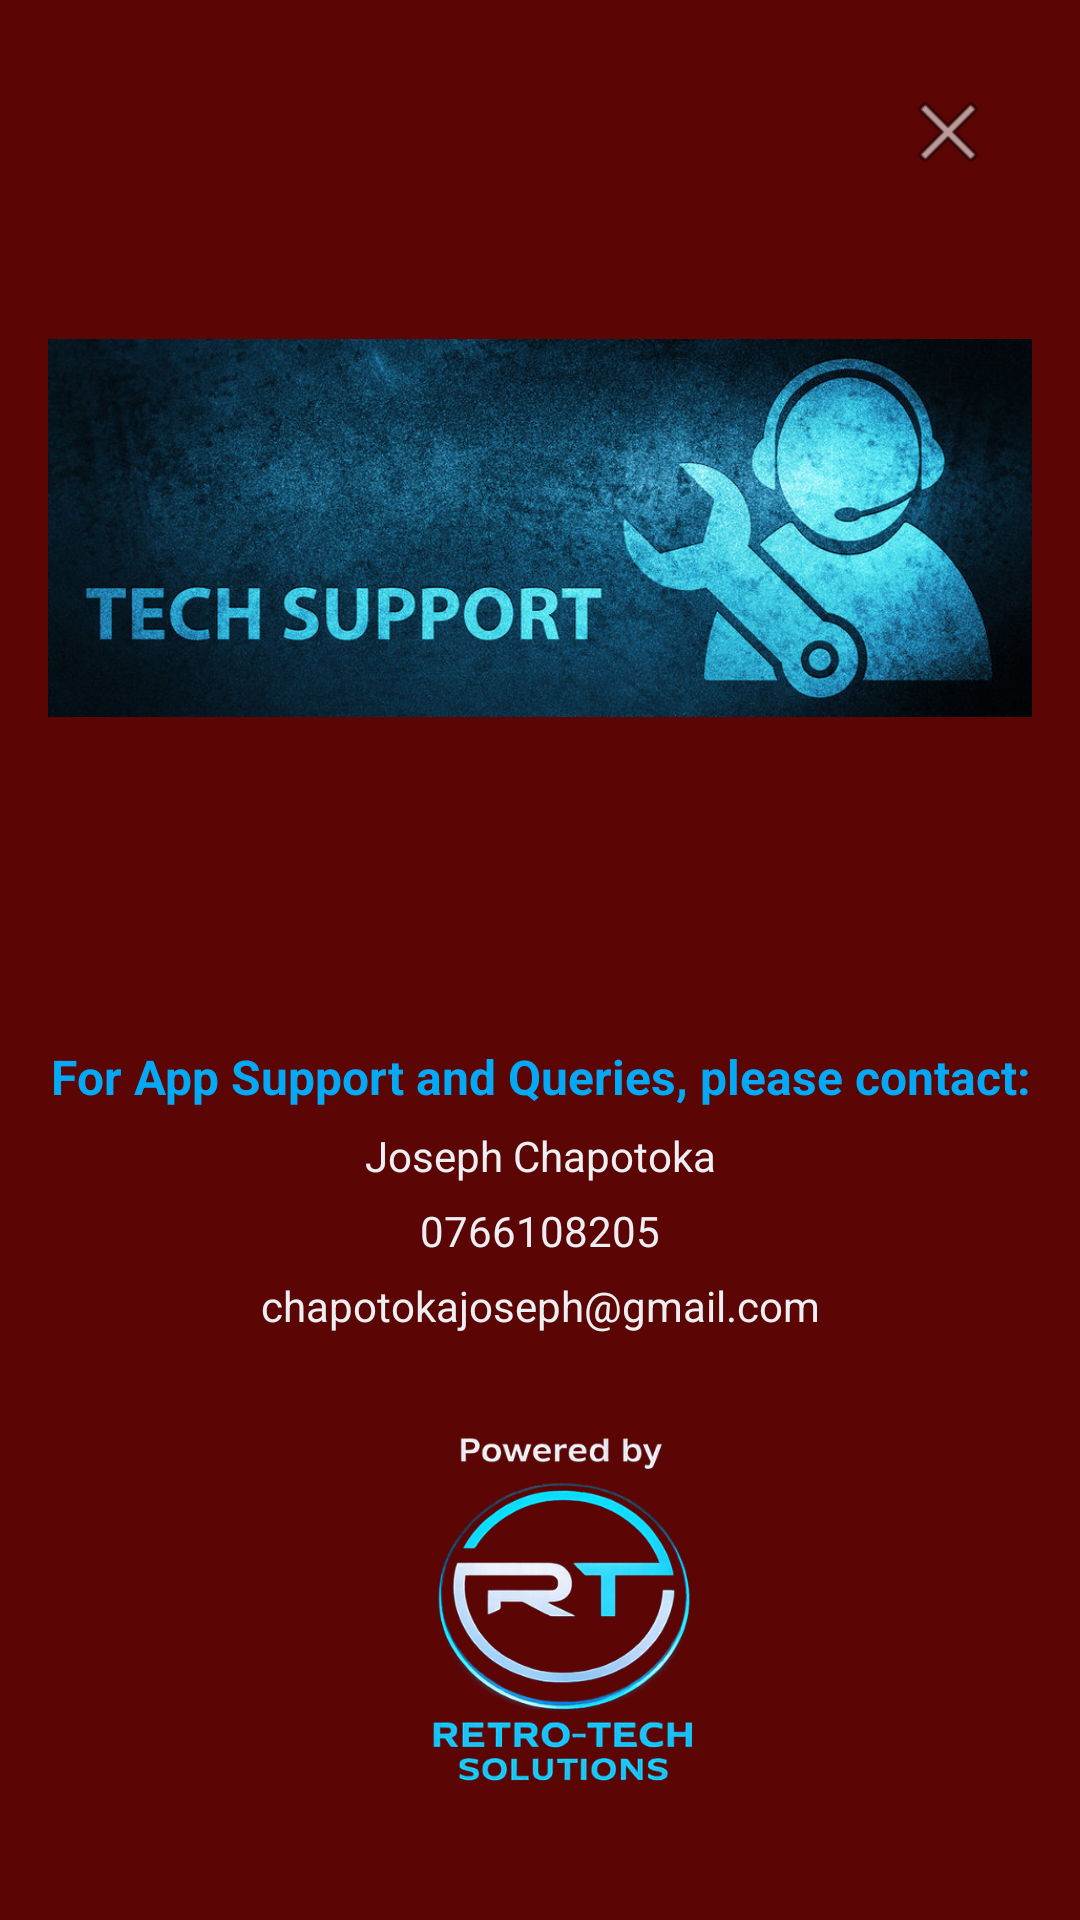

Screen size 1080w x 1920h. Icon name, then its box in pixels as bbox(x1, y1, x2, y2):
Close: bbox(919, 103, 977, 161)
